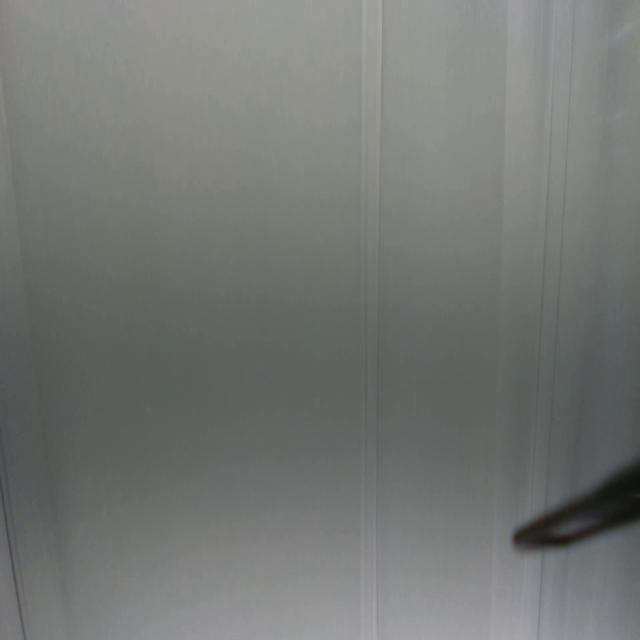crease: (530, 0, 576, 498), (359, 0, 385, 639), (0, 469, 27, 640), (535, 550, 548, 638)
